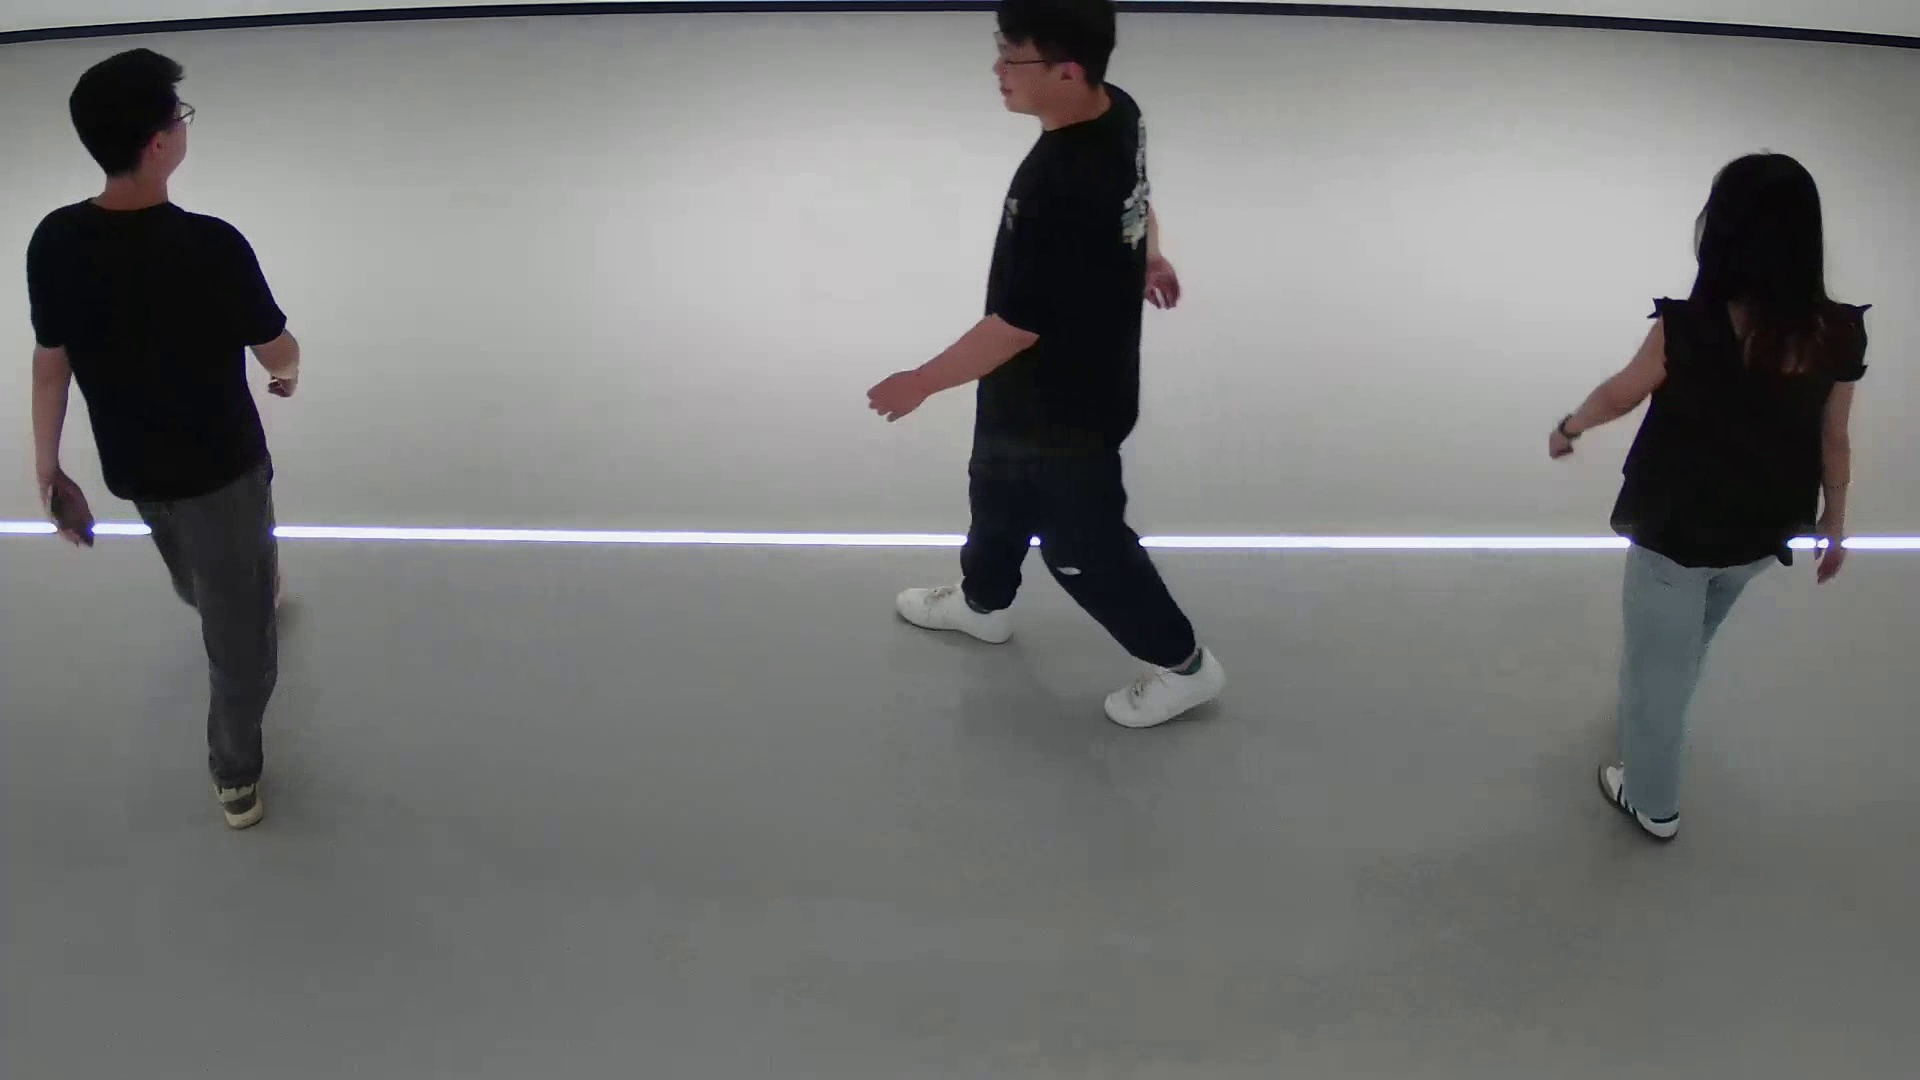normal: (849, 8, 1245, 748), (1539, 133, 1879, 855), (16, 40, 324, 835)
